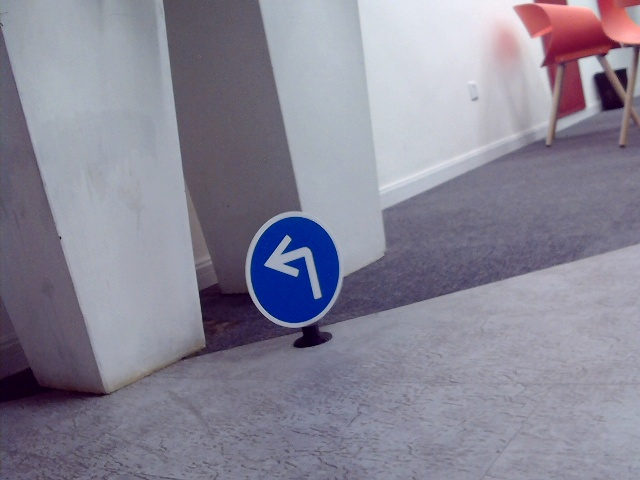turn_left: (264, 229, 323, 302)
